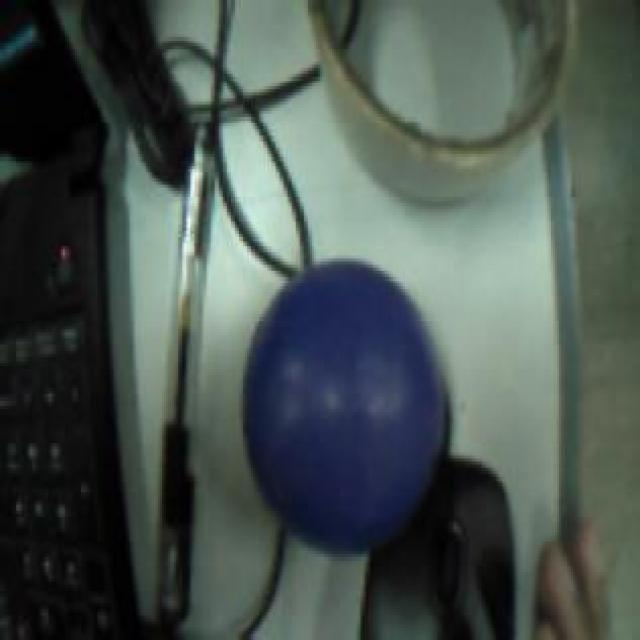BallPurple: (242, 255, 447, 550)
